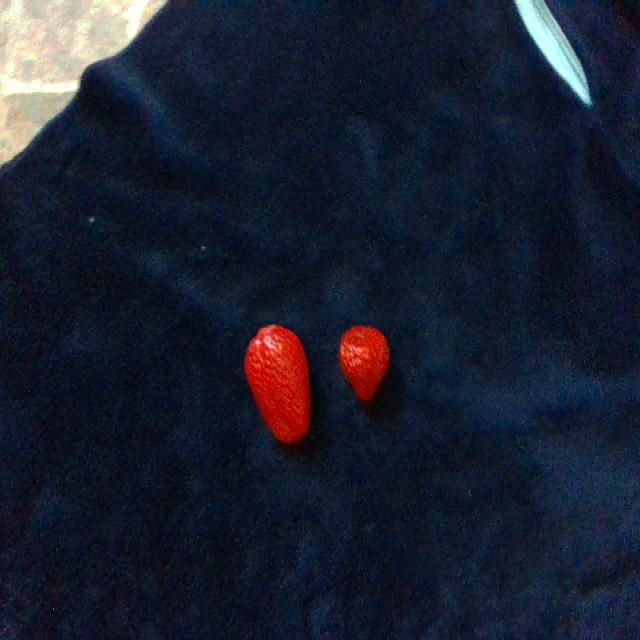chica_roja: (340, 325, 389, 399)
grande_roja: (244, 324, 308, 443)
